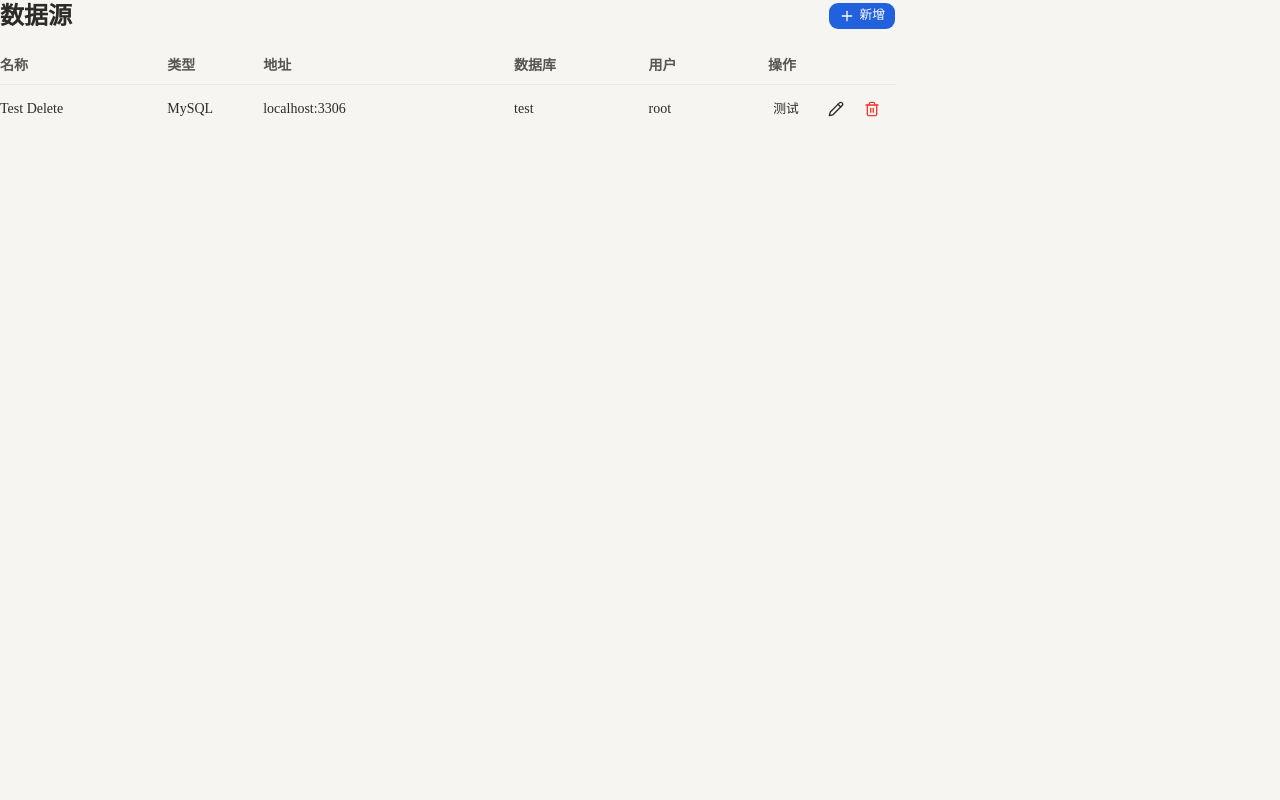
Test: DataSourcesPage › shows delete confirmation dialog before deleting
Note: Click the trash icon delete button
Click the button named "删除": [872, 109] box [856,93,888,125]
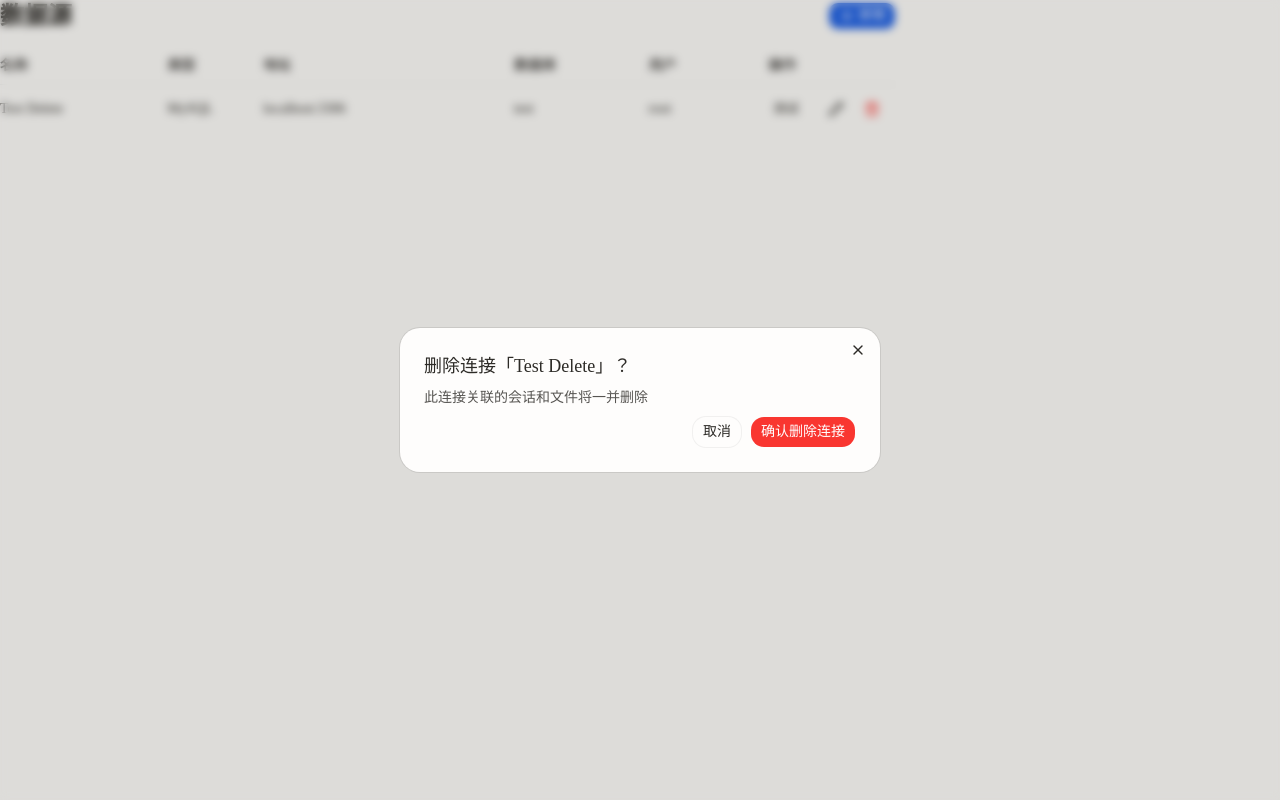
Now the heading "删除连接「Test Delete」？" is shown, box [424,356,631,376]
Now the button "取消" is shown
Note: Click cancel, dialog should close, no API call
Click the button "取消": [717, 432] box [692,416,742,448]
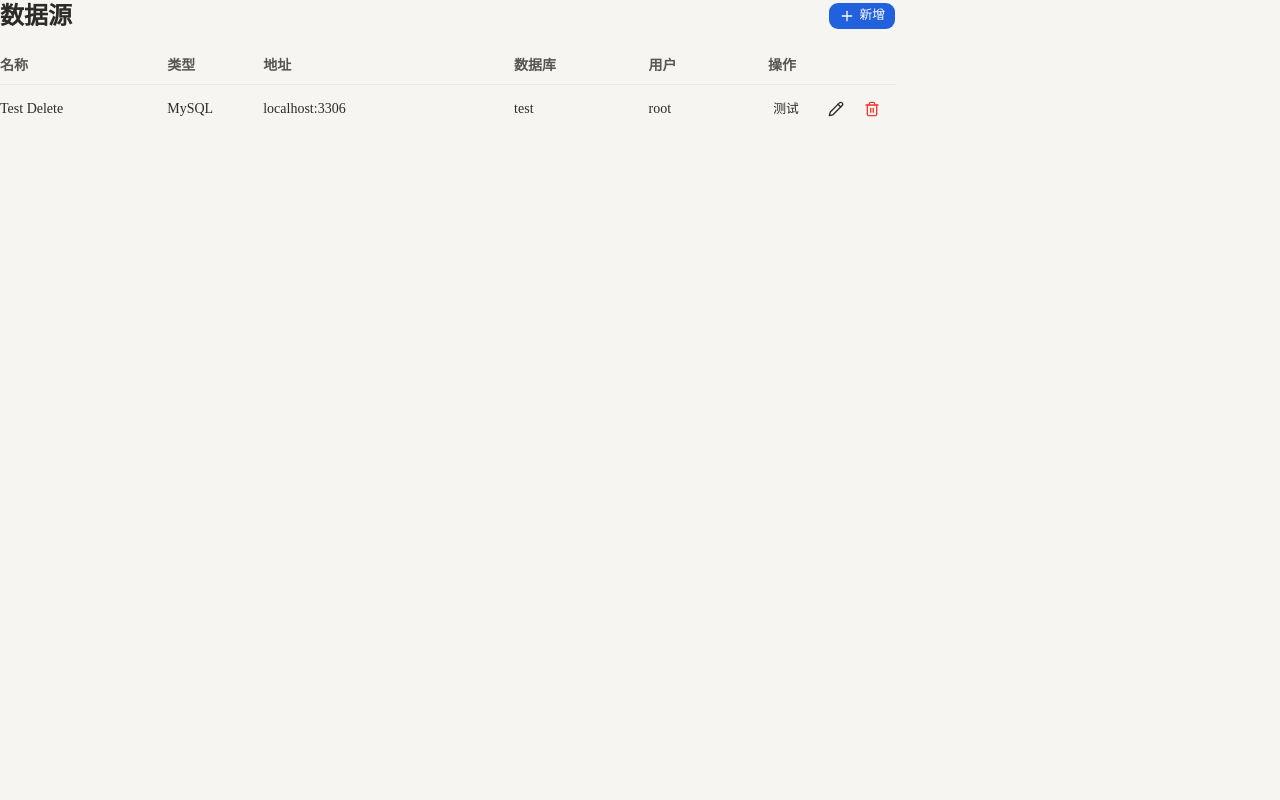
Now the dialog is gone
